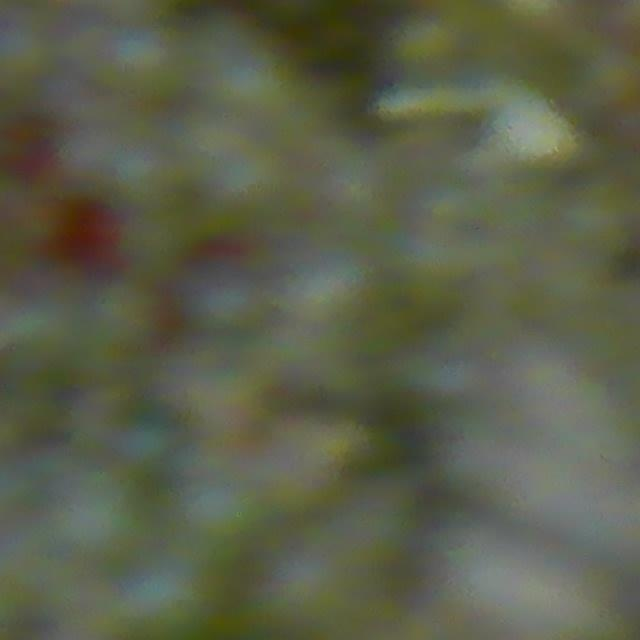SeaGrape: (52, 465, 153, 564), (114, 553, 217, 640), (181, 256, 268, 338), (180, 473, 265, 548), (110, 30, 190, 90), (124, 140, 187, 205), (57, 142, 108, 194)
